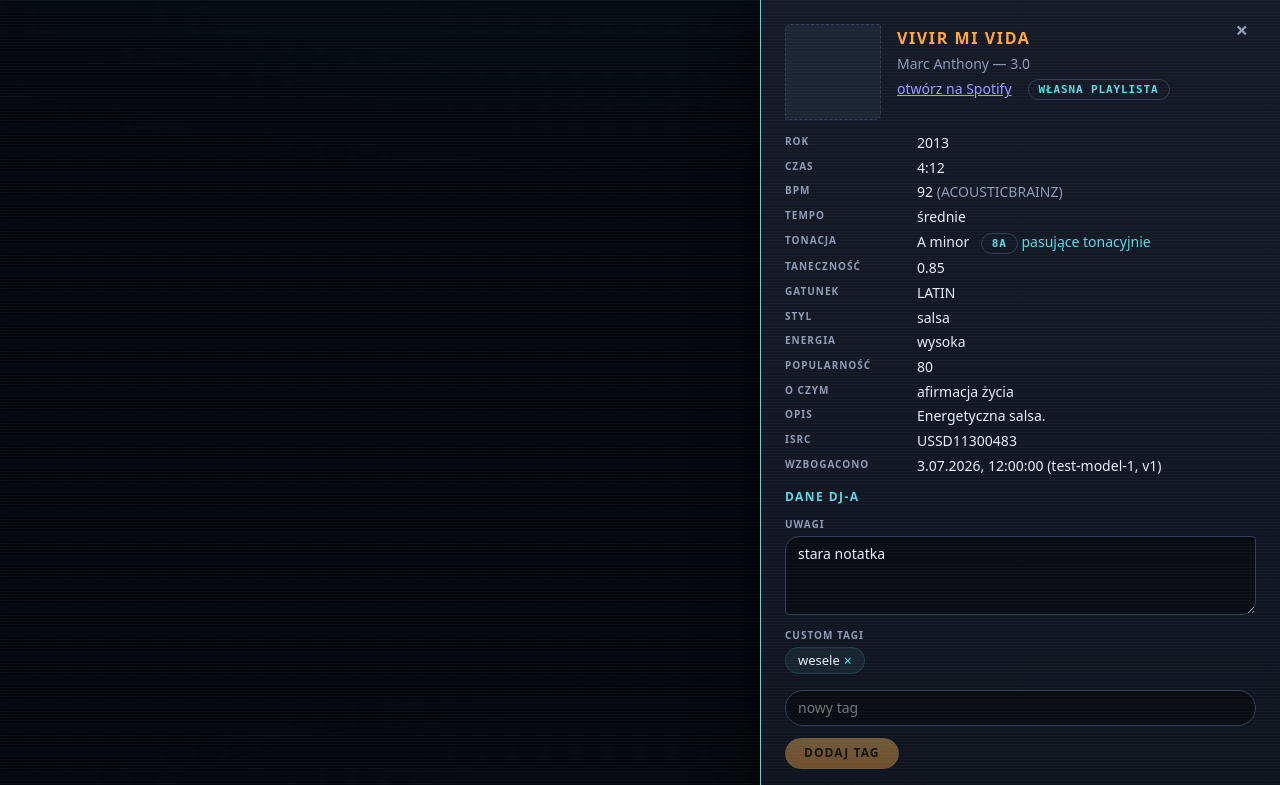
TrackDetails — blokada optymistyczna (M5.2) › przy konflikcie mówi o zmianie i nie kasuje tego, co DJ wpisał
Replace the text in the text box with test id "dj-notes" with "moja świeża notatka" at coordinates (1020, 576), box [785,536,1256,615]
(page scrolled)
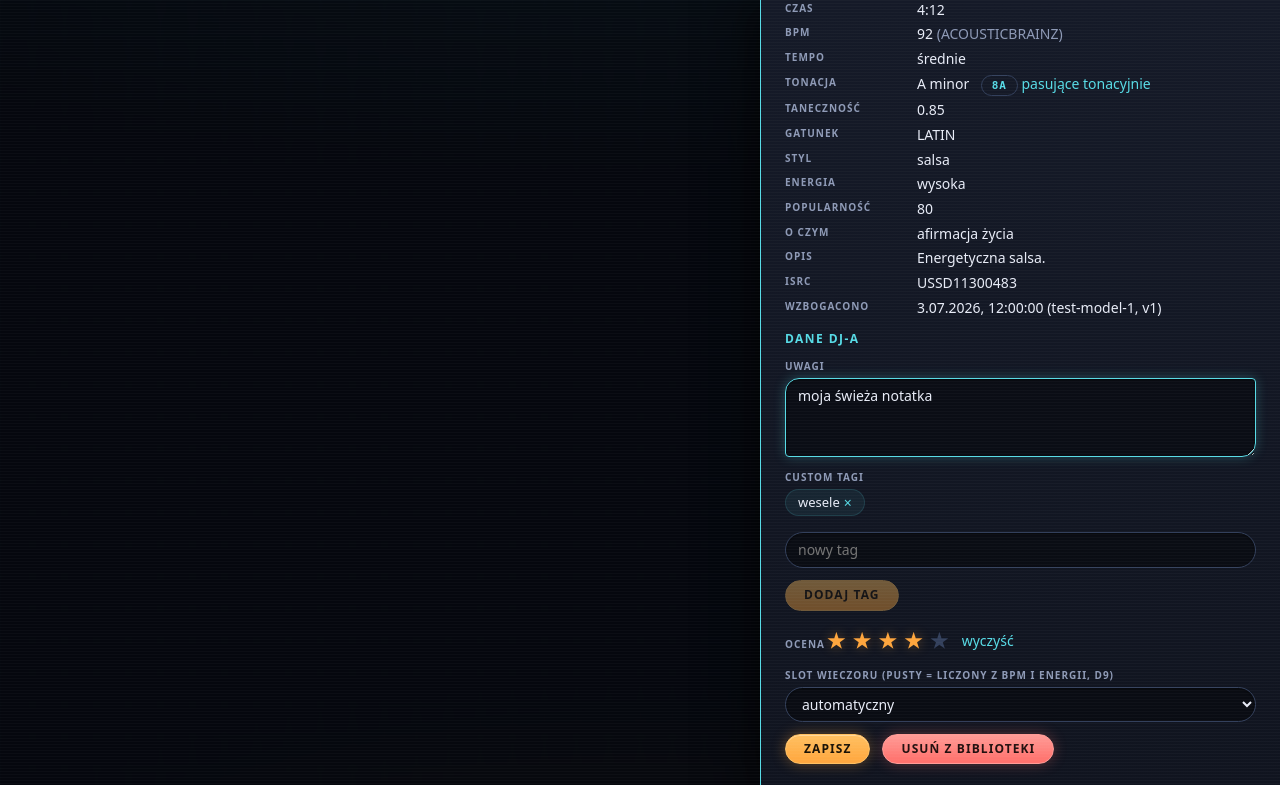
Click the button with test id "dj-save" at coordinates (828, 749), box [785,734,870,764]
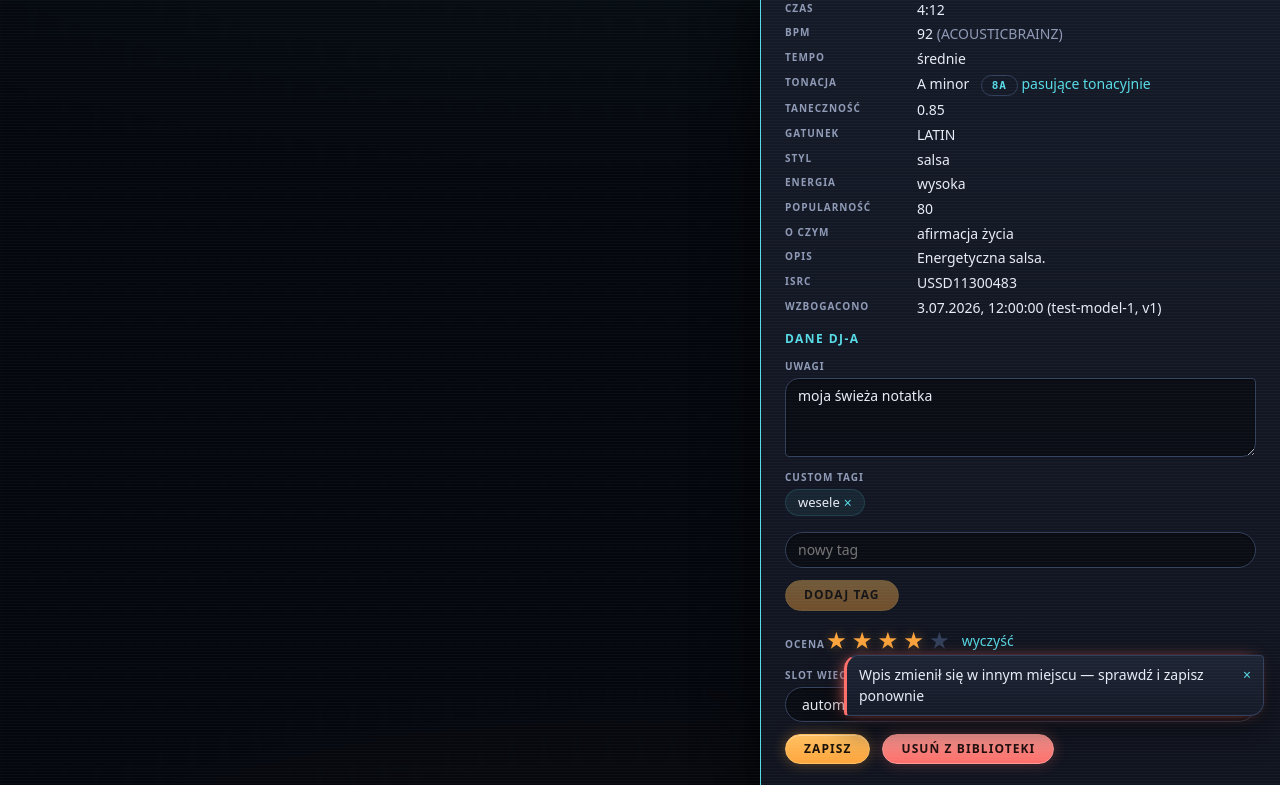
Check: the text "Wpis zmienił się w innym miejscu — sprawdź i zapisz ponownie" is shown, box [859,664,1231,707]
